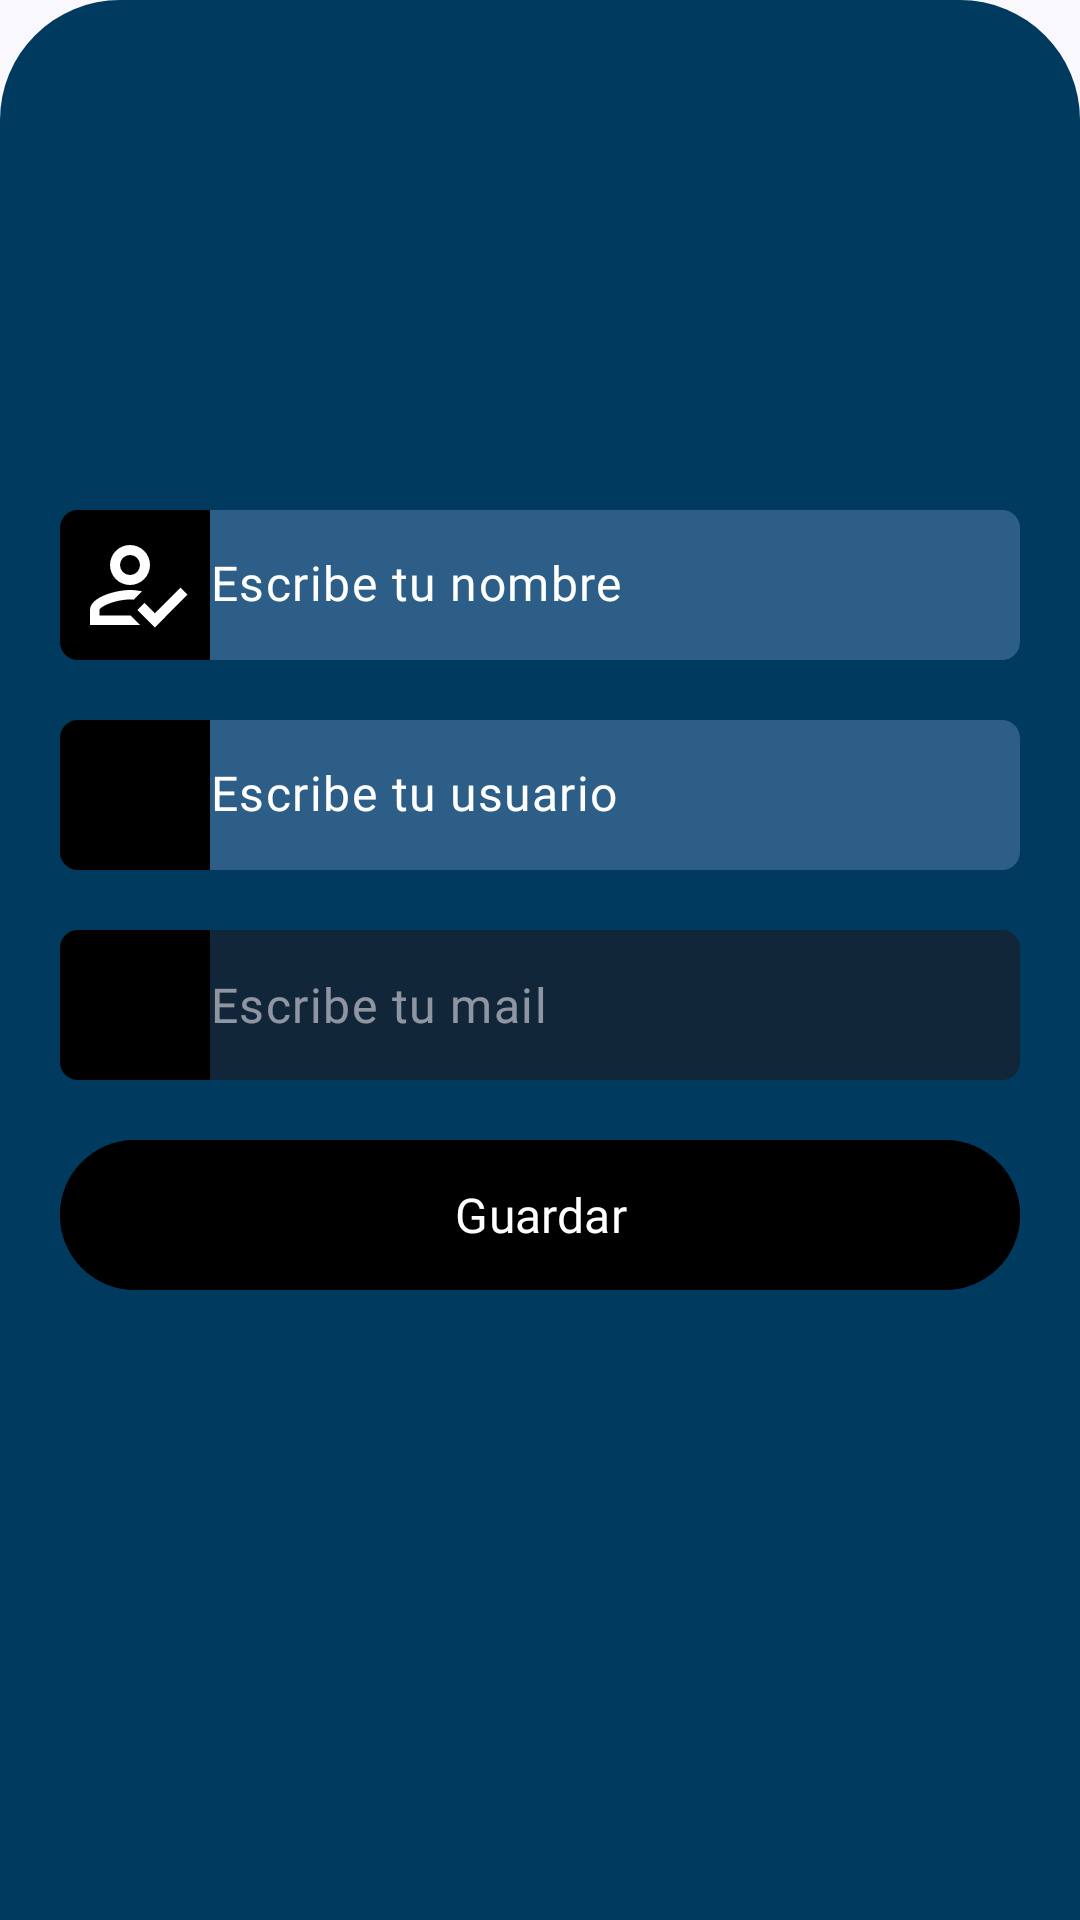

Icon bounding boxes for this 1080x1920 phone screenshot, format bbox=[x1, y1, x2, y2]:
account check: bbox=[90, 545, 188, 628]
